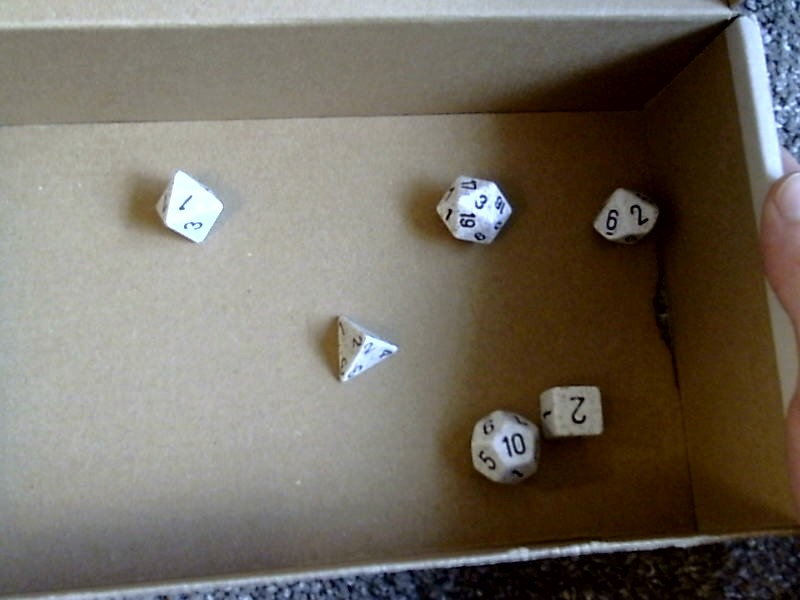d10 2: (581, 182, 669, 253)
d12 10: (456, 407, 542, 487)
d20 3: (430, 165, 516, 255)
d4 2: (322, 304, 407, 390)
d6 2: (539, 376, 613, 439)
d8 1: (147, 169, 230, 250)
